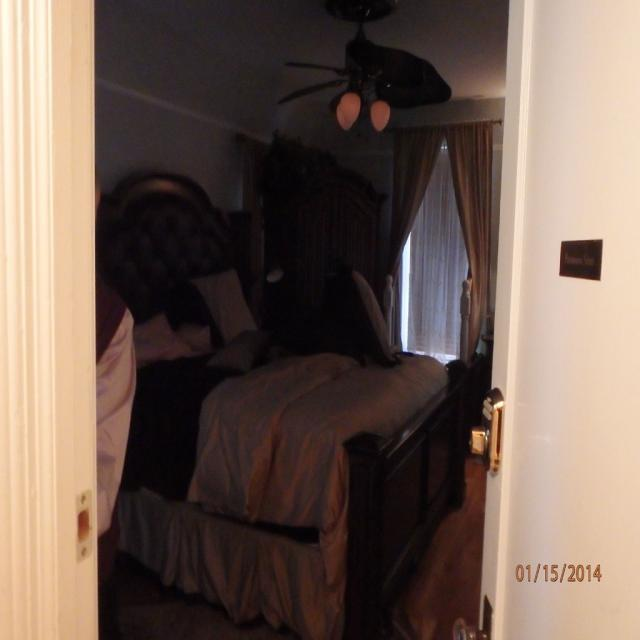bulb_on: (332, 90, 361, 124), (371, 98, 394, 132), (332, 106, 352, 130)
fan_off: (282, 13, 428, 106)
